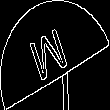M_SE: (32, 23, 78, 87)
